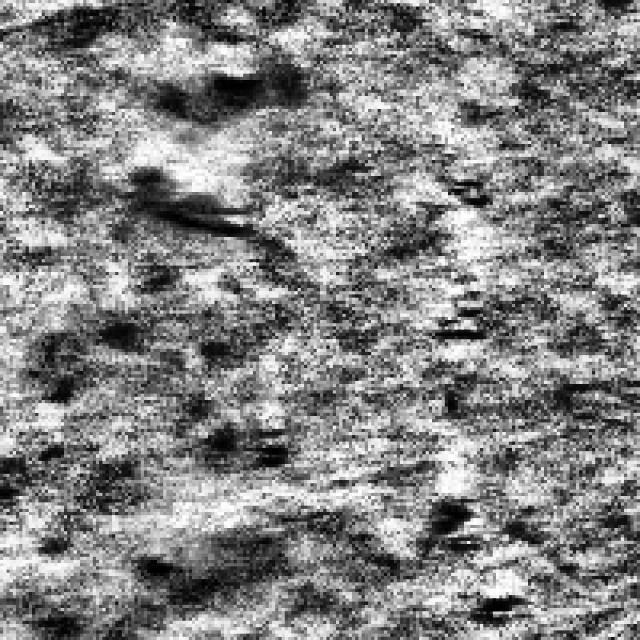Crazing: (92, 55, 310, 244)
